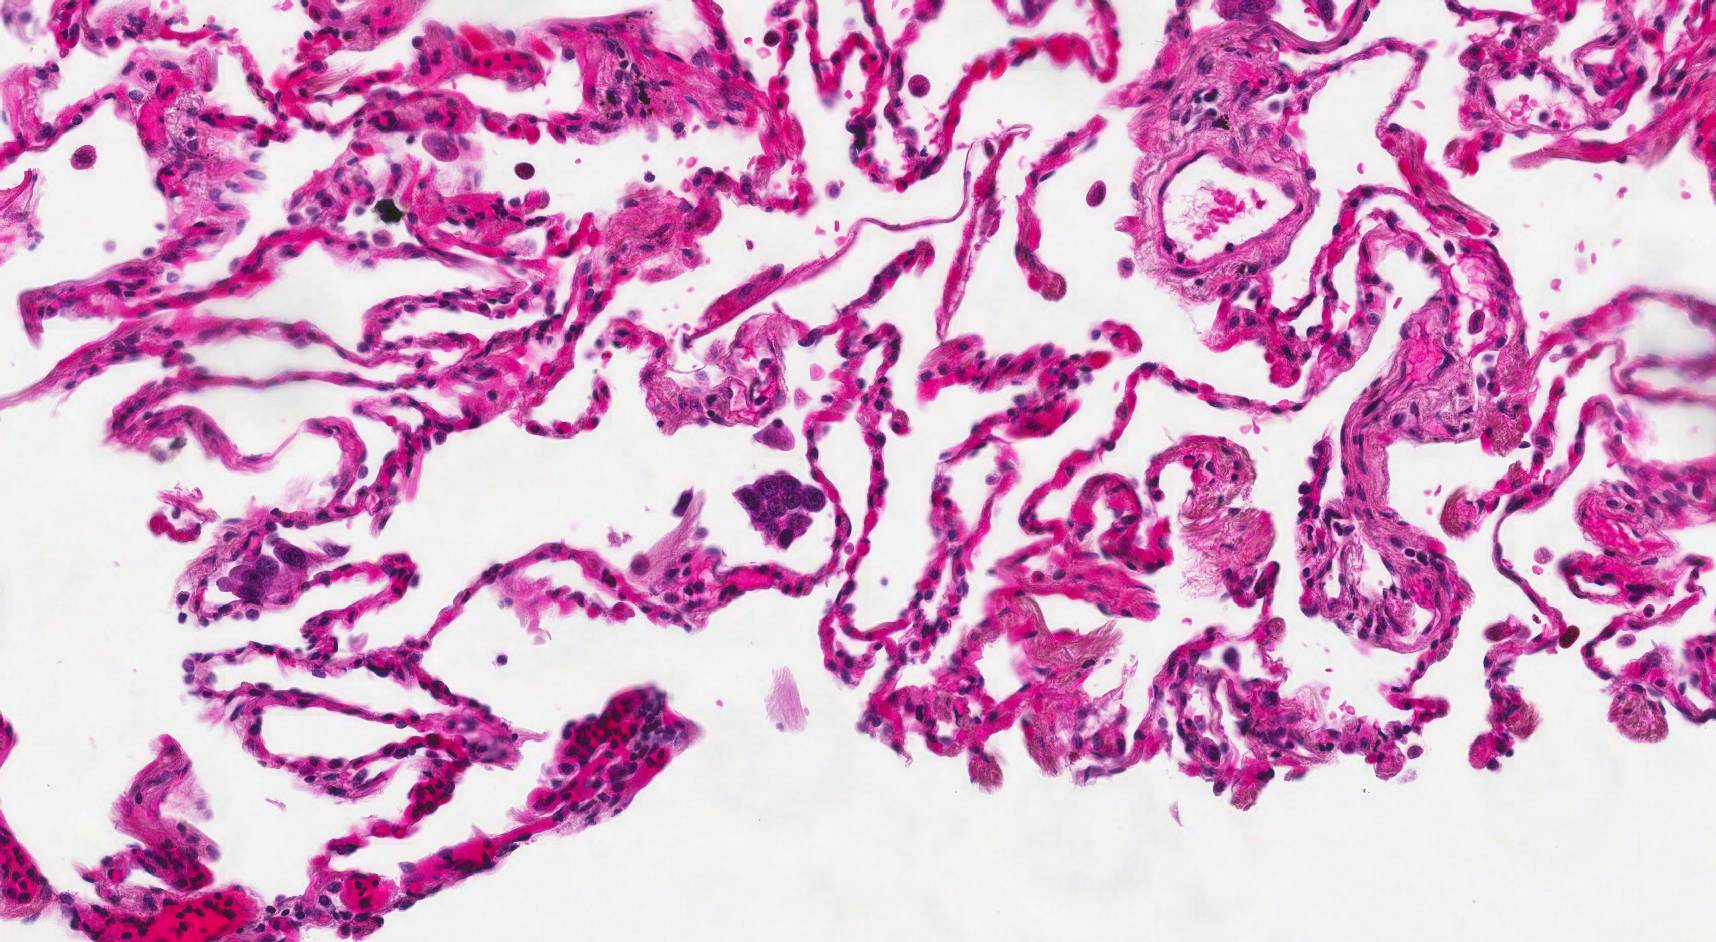stas: (214, 540, 351, 605), (732, 471, 825, 551)
